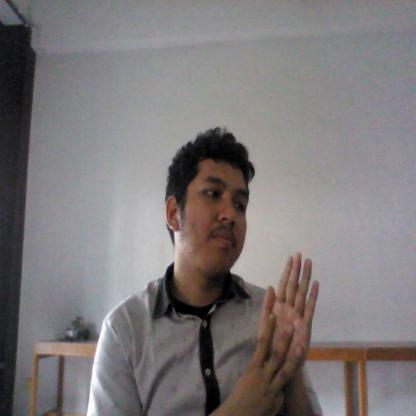M: (242, 240, 327, 413)
